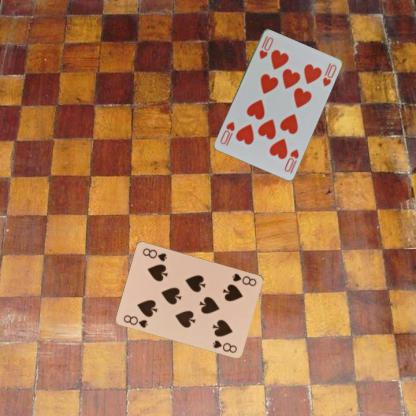10h: (256, 32, 274, 60), (282, 146, 300, 173)
8s: (230, 270, 258, 288), (121, 312, 150, 329)
